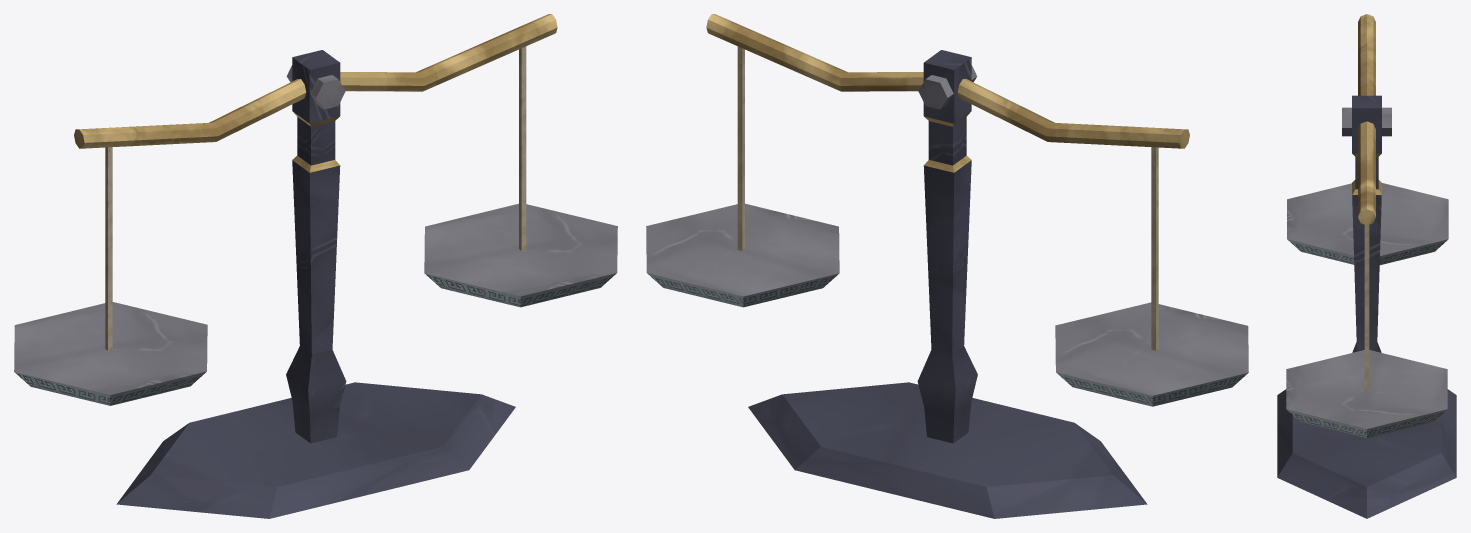
The model's file is Updated_scales.fbx.
3 views of the same model, side by side, from view 1: azimuth 30°, elevation 25°; view 2: azimuth 150°, elevation 25°; view 3: azimuth 270°, elevation 25° (orthographic). The views are drawn at different scales.
Visible parts, largest first — view 1: Libra_scale1:pCube4, Libra_scale1:pCube4.004, Libra_scale1:pCube4.002, Libra_scale1:pCube4.001; view 2: Libra_scale1:pCube4, Libra_scale1:pCube4.004, Libra_scale1:pCube4.002, Libra_scale1:pCube4.001; view 3: Libra_scale1:pCube4, Libra_scale1:pCube4.002, Libra_scale1:pCube4.004, Libra_scale1:pCube4.001.
Part boxes in pixels (x1=…): Libra_scale1:pCube4: x1=116, y1=50, x2=515, y2=518; Libra_scale1:pCube4.004: x1=14, y1=302, x2=207, y2=405; Libra_scale1:pCube4.002: x1=424, y1=203, x2=617, y2=307; Libra_scale1:pCube4.001: x1=74, y1=14, x2=557, y2=350; Libra_scale1:pCube4: x1=748, y1=50, x2=1147, y2=518; Libra_scale1:pCube4.004: x1=1055, y1=302, x2=1248, y2=406; Libra_scale1:pCube4.002: x1=646, y1=203, x2=839, y2=307; Libra_scale1:pCube4.001: x1=706, y1=14, x2=1189, y2=350; Libra_scale1:pCube4: x1=1277, y1=95, x2=1456, y2=518; Libra_scale1:pCube4.002: x1=1286, y1=350, x2=1447, y2=437; Libra_scale1:pCube4.004: x1=1287, y1=183, x2=1448, y2=265; Libra_scale1:pCube4.001: x1=1358, y1=14, x2=1375, y2=390.
Bounding box in the file's own units: 709 × 444 × 216.
